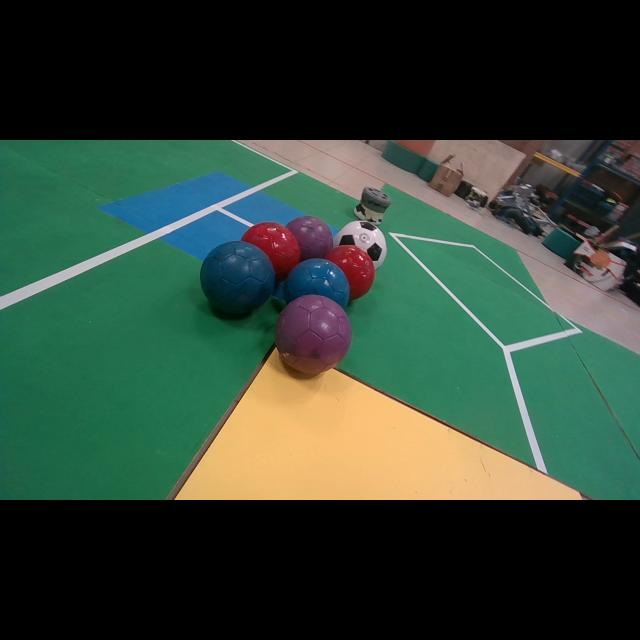B: (200, 241, 275, 314), (280, 259, 350, 309)
P: (275, 295, 351, 373), (286, 215, 334, 261)
R: (241, 221, 300, 281), (325, 245, 375, 299)
